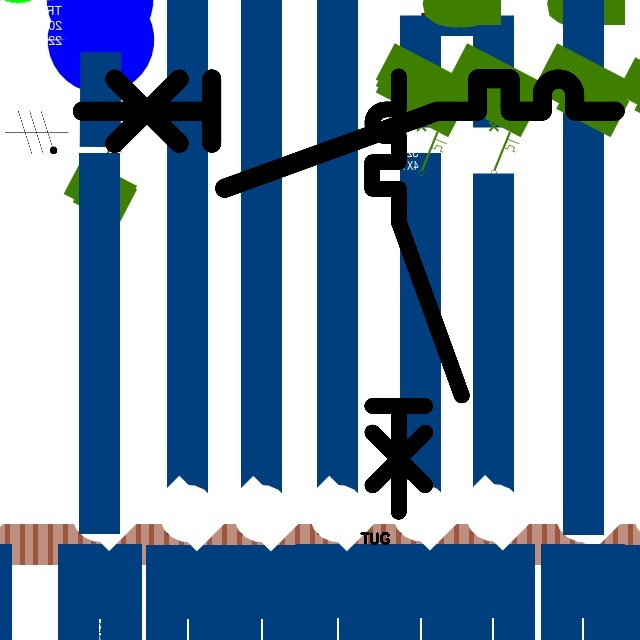interruptor_termomagnetico: (68, 65, 628, 202), (361, 65, 473, 523)
